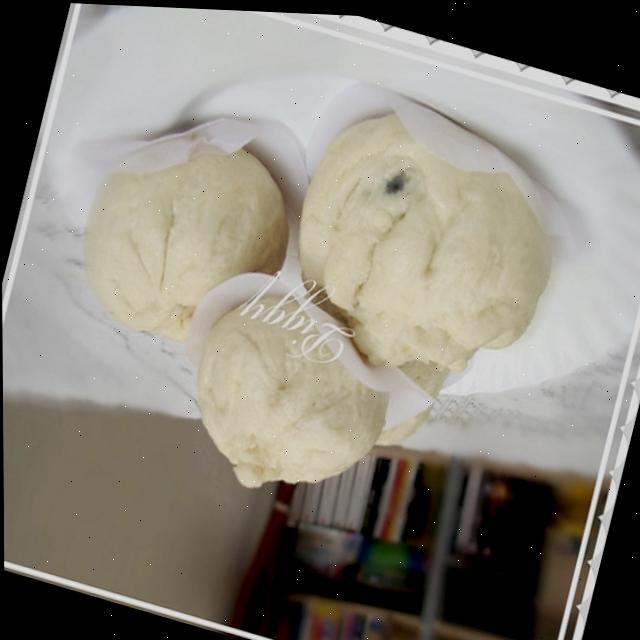带馅早点: (4, 7, 599, 593)
